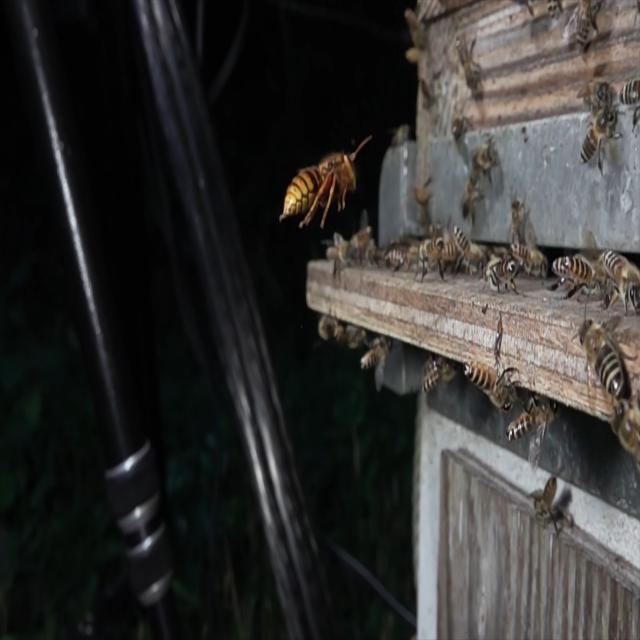Bees: (574, 286, 637, 416), (506, 390, 558, 470), (464, 357, 520, 420), (578, 100, 623, 178), (550, 245, 600, 300), (600, 247, 640, 315), (578, 78, 616, 116), (484, 260, 520, 300)
Hornets: (281, 134, 372, 230)
